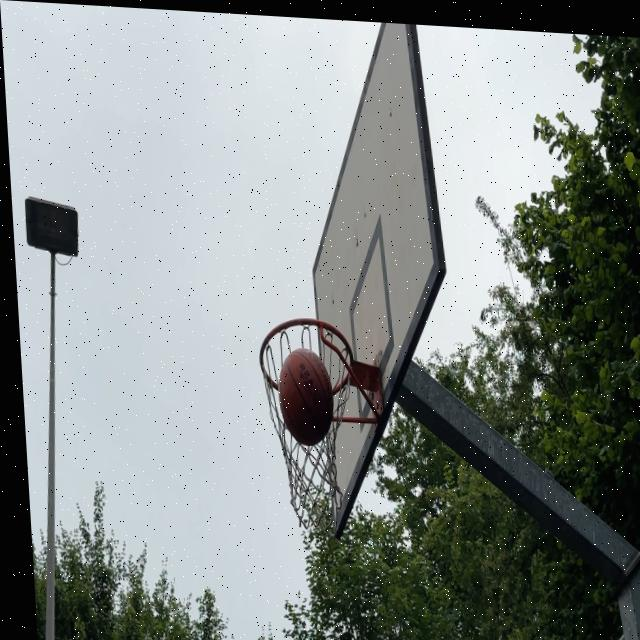Basketball: (276, 351, 335, 449)
